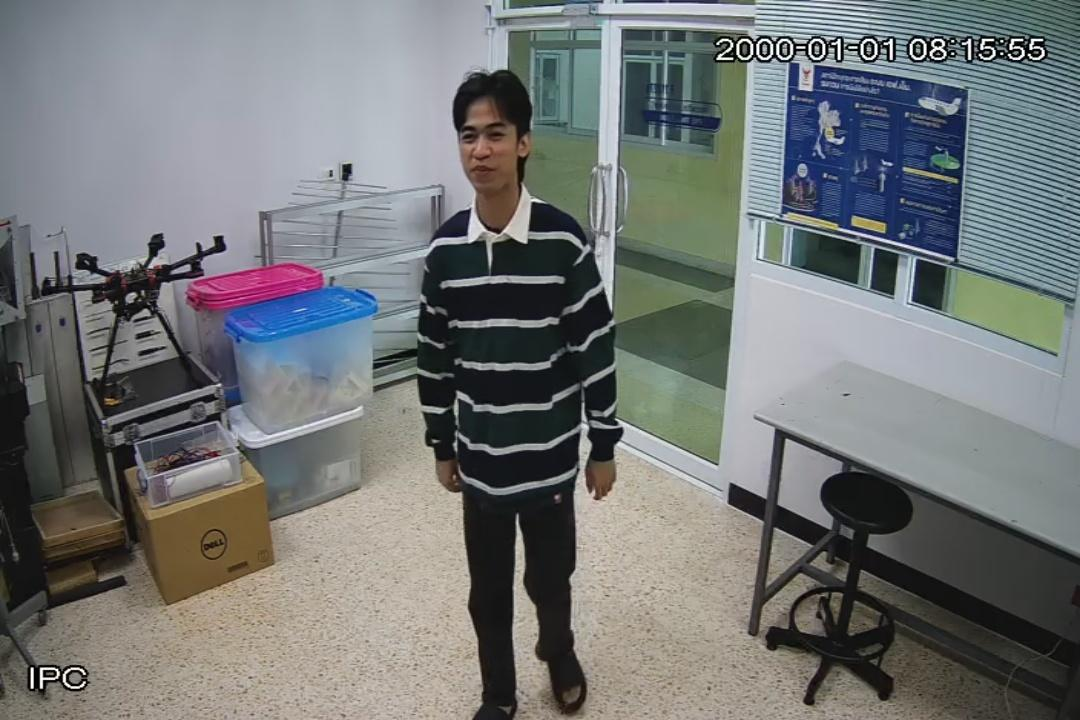normal: (413, 68, 625, 720)
